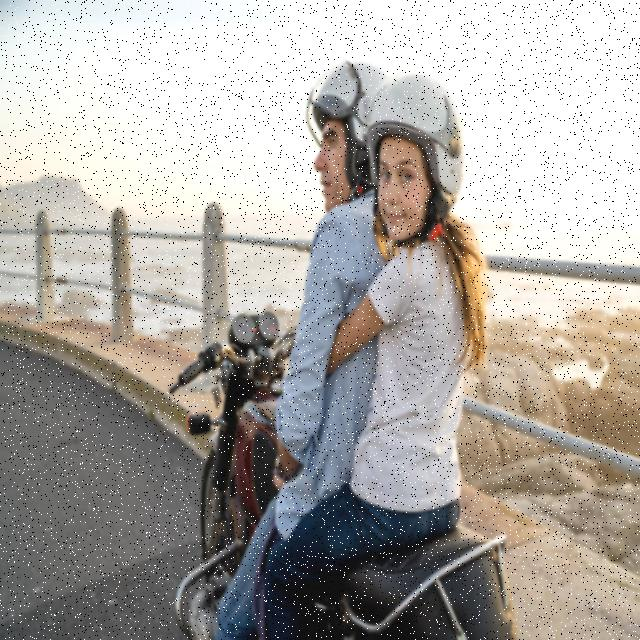not_triplets: (174, 47, 517, 640)
with-helmet: (367, 65, 476, 255), (306, 54, 381, 207)
